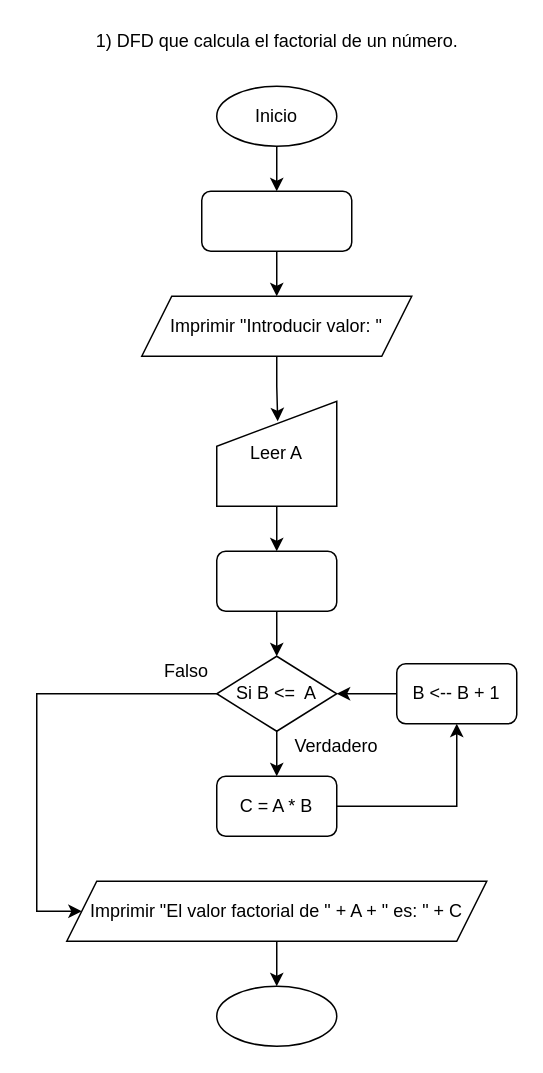
The diagram is 543 pixels wide and 1073 high, and some of its shapes have lost their labels. Here are the shapes that lost their labels. From the top down, the centre of each, then its label:
At point (276, 220): "Entero A,B,C".
At point (276, 580): "C<-- 0 B <-- 1".
At point (276, 1015): "Fin".
